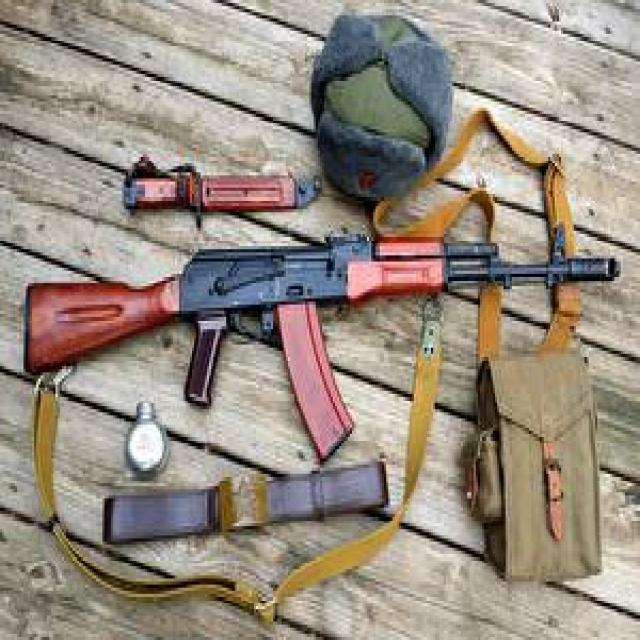ak: (20, 220, 632, 460)
